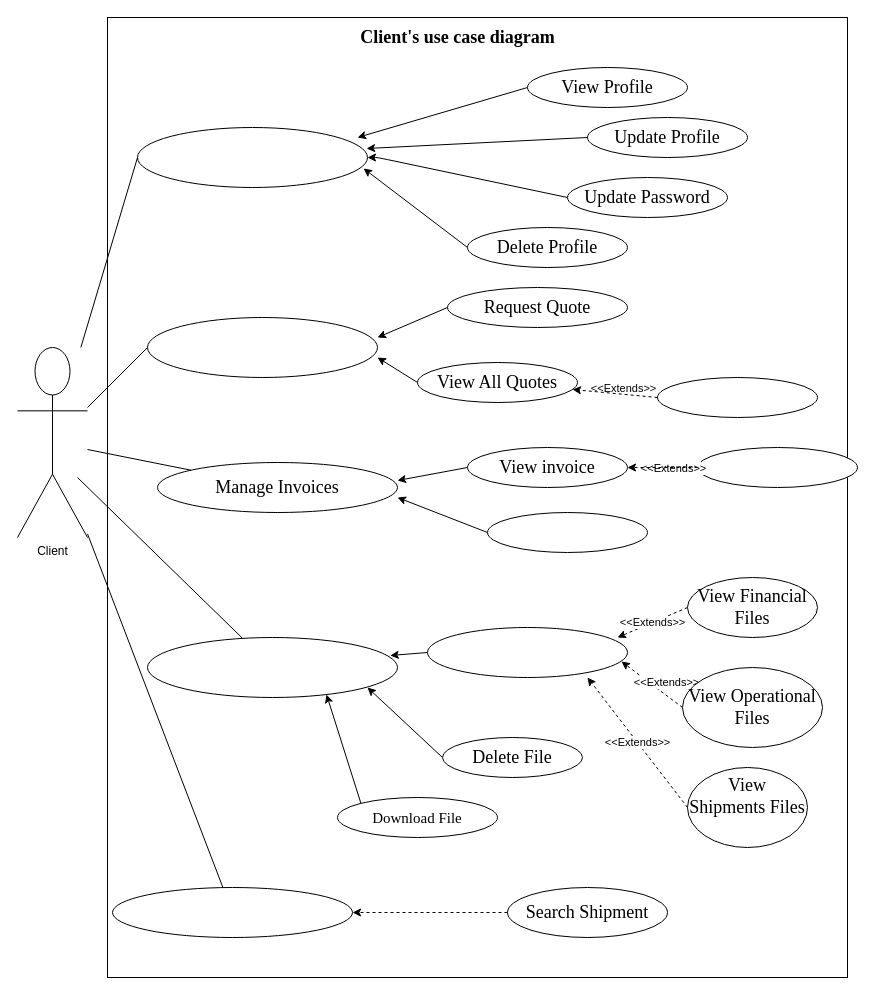
Some shapes in this 875 by 995 pixel diagram are drawn without their labels. The centre of each missing label's shape, as x and y in pixels:
Download invoice: pixel 567 532
Manage Documents: pixel 272 667
Manage Profile: pixel 252 157
Manage Quotes: pixel 262 347
Search invoice: pixel 777 467
Search Quote: pixel 737 397
View Documents: pixel 527 652
View shipments: pixel 232 912
